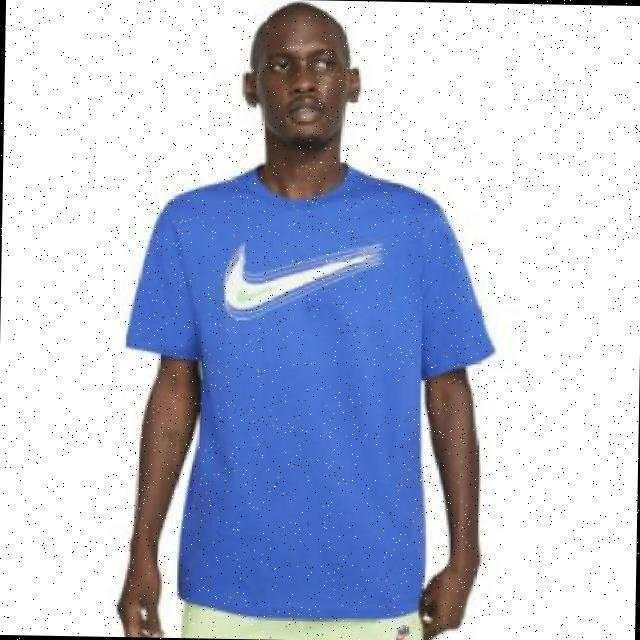Nike: (220, 248, 373, 308), (236, 283, 269, 301)
